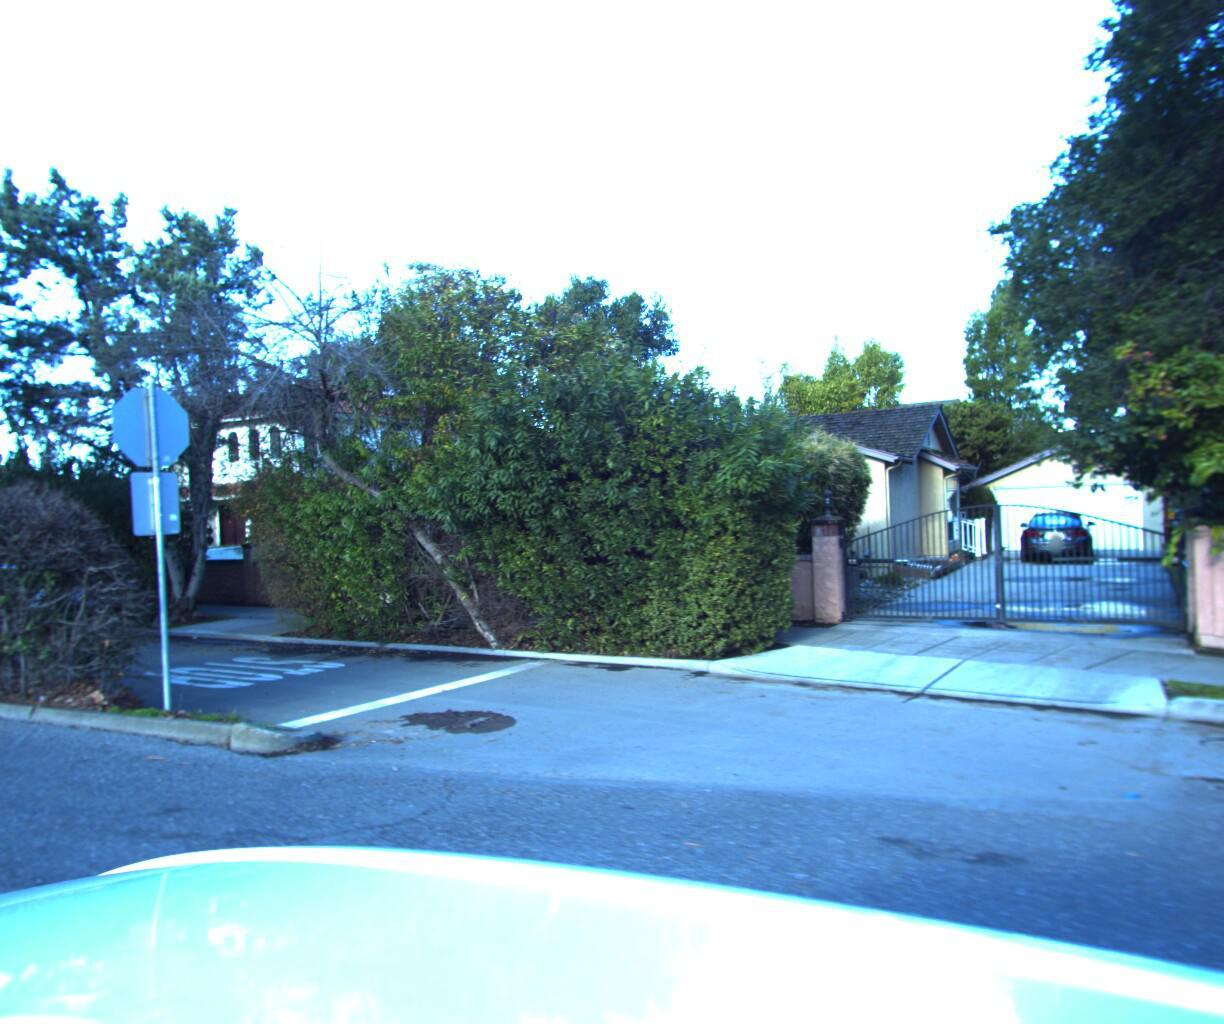car: (1012, 496, 1089, 557)
